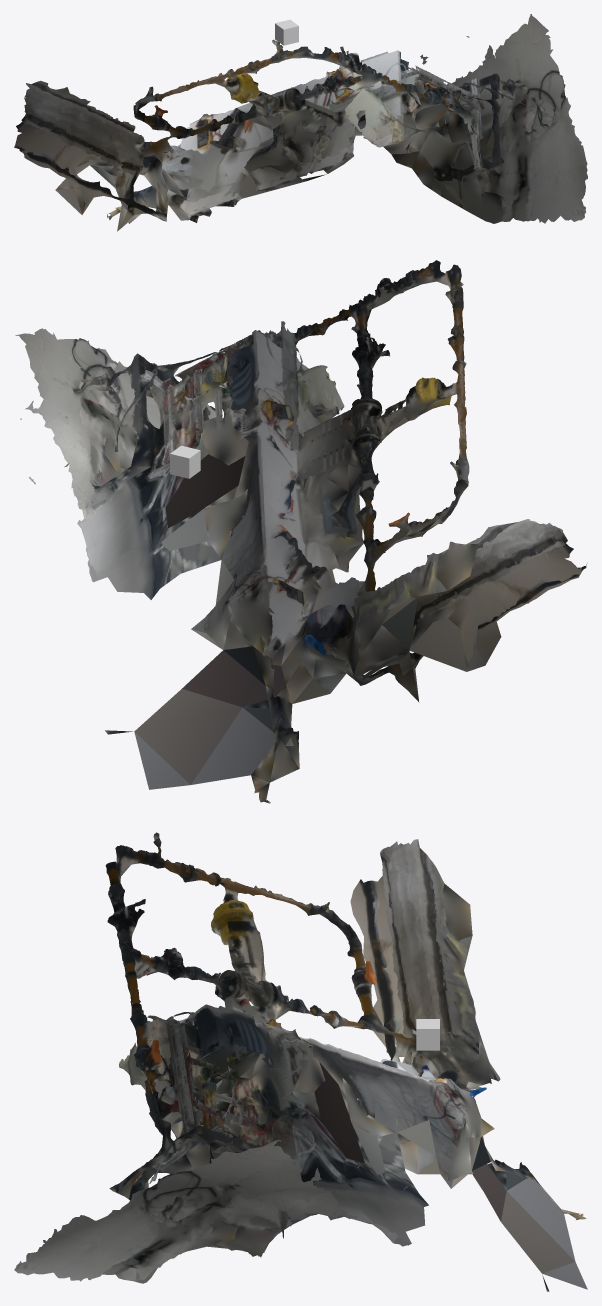
File: testModel.fbx
The picture shows the model from 3 angles, top to bottom: view 1: azimuth 30°, elevation 25°; view 2: azimuth 150°, elevation 25°; view 3: azimuth 270°, elevation 25°; orthographic projection. The views are drawn at different scales.
Visible parts, largest first — view 1: model, Cube; view 2: model, Cube; view 3: model, Cube.
Part boxes in pixels (x1,y1,x2,y2): model: (14, 14, 587, 231); Cube: (275, 19, 298, 45); model: (15, 260, 587, 803); Cube: (170, 445, 200, 478); model: (14, 832, 587, 1291); Cube: (416, 1019, 439, 1050).
Bounding box in the file's own units: 6342 × 3764 × 4857.
